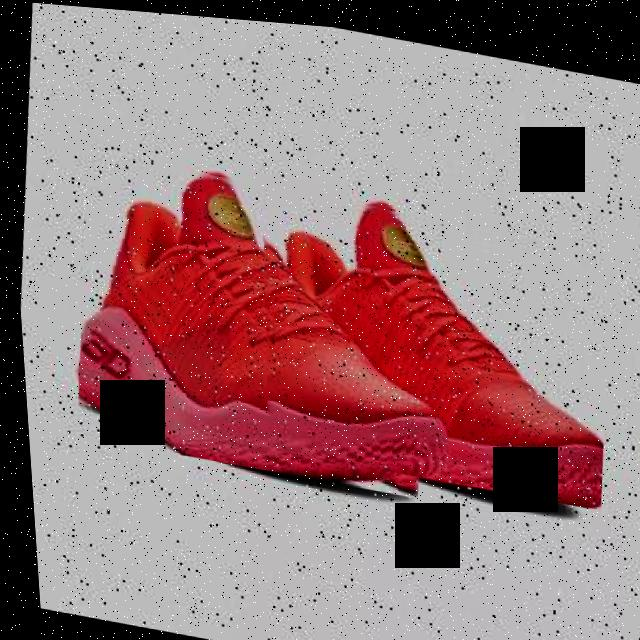shoe: (55, 144, 459, 496), (232, 175, 622, 502)
